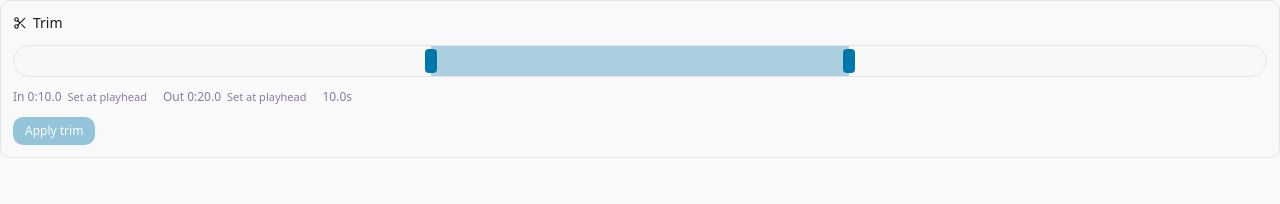
Scenario: ClipTrimControls › enables Apply trim once a handle moves, POSTs the new bounds, polls, and reports idle with media
Press ArrowRight in the slider named "trim in point", box [425, 49, 437, 73]
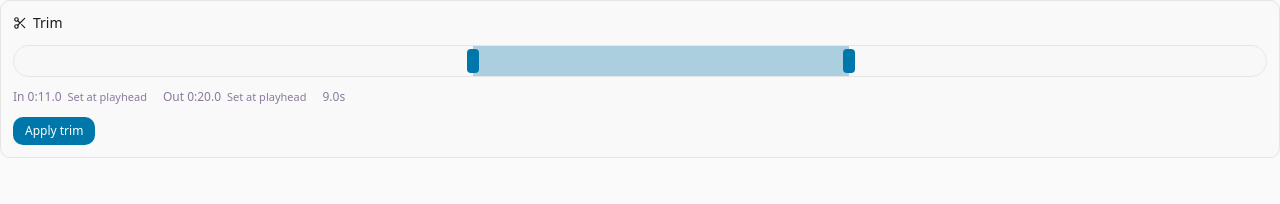
Now the button "Apply trim" is enabled
Click the button "Apply trim": point(54, 131) [13, 117, 95, 145]
Wait 3000 ms
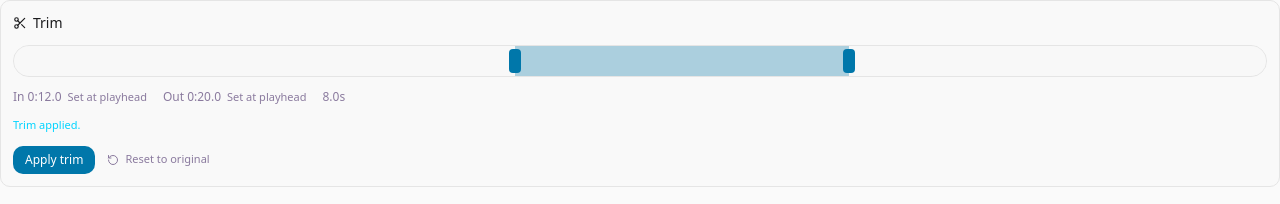
Now the text "Trim applied." is shown, box [13, 117, 80, 132]
